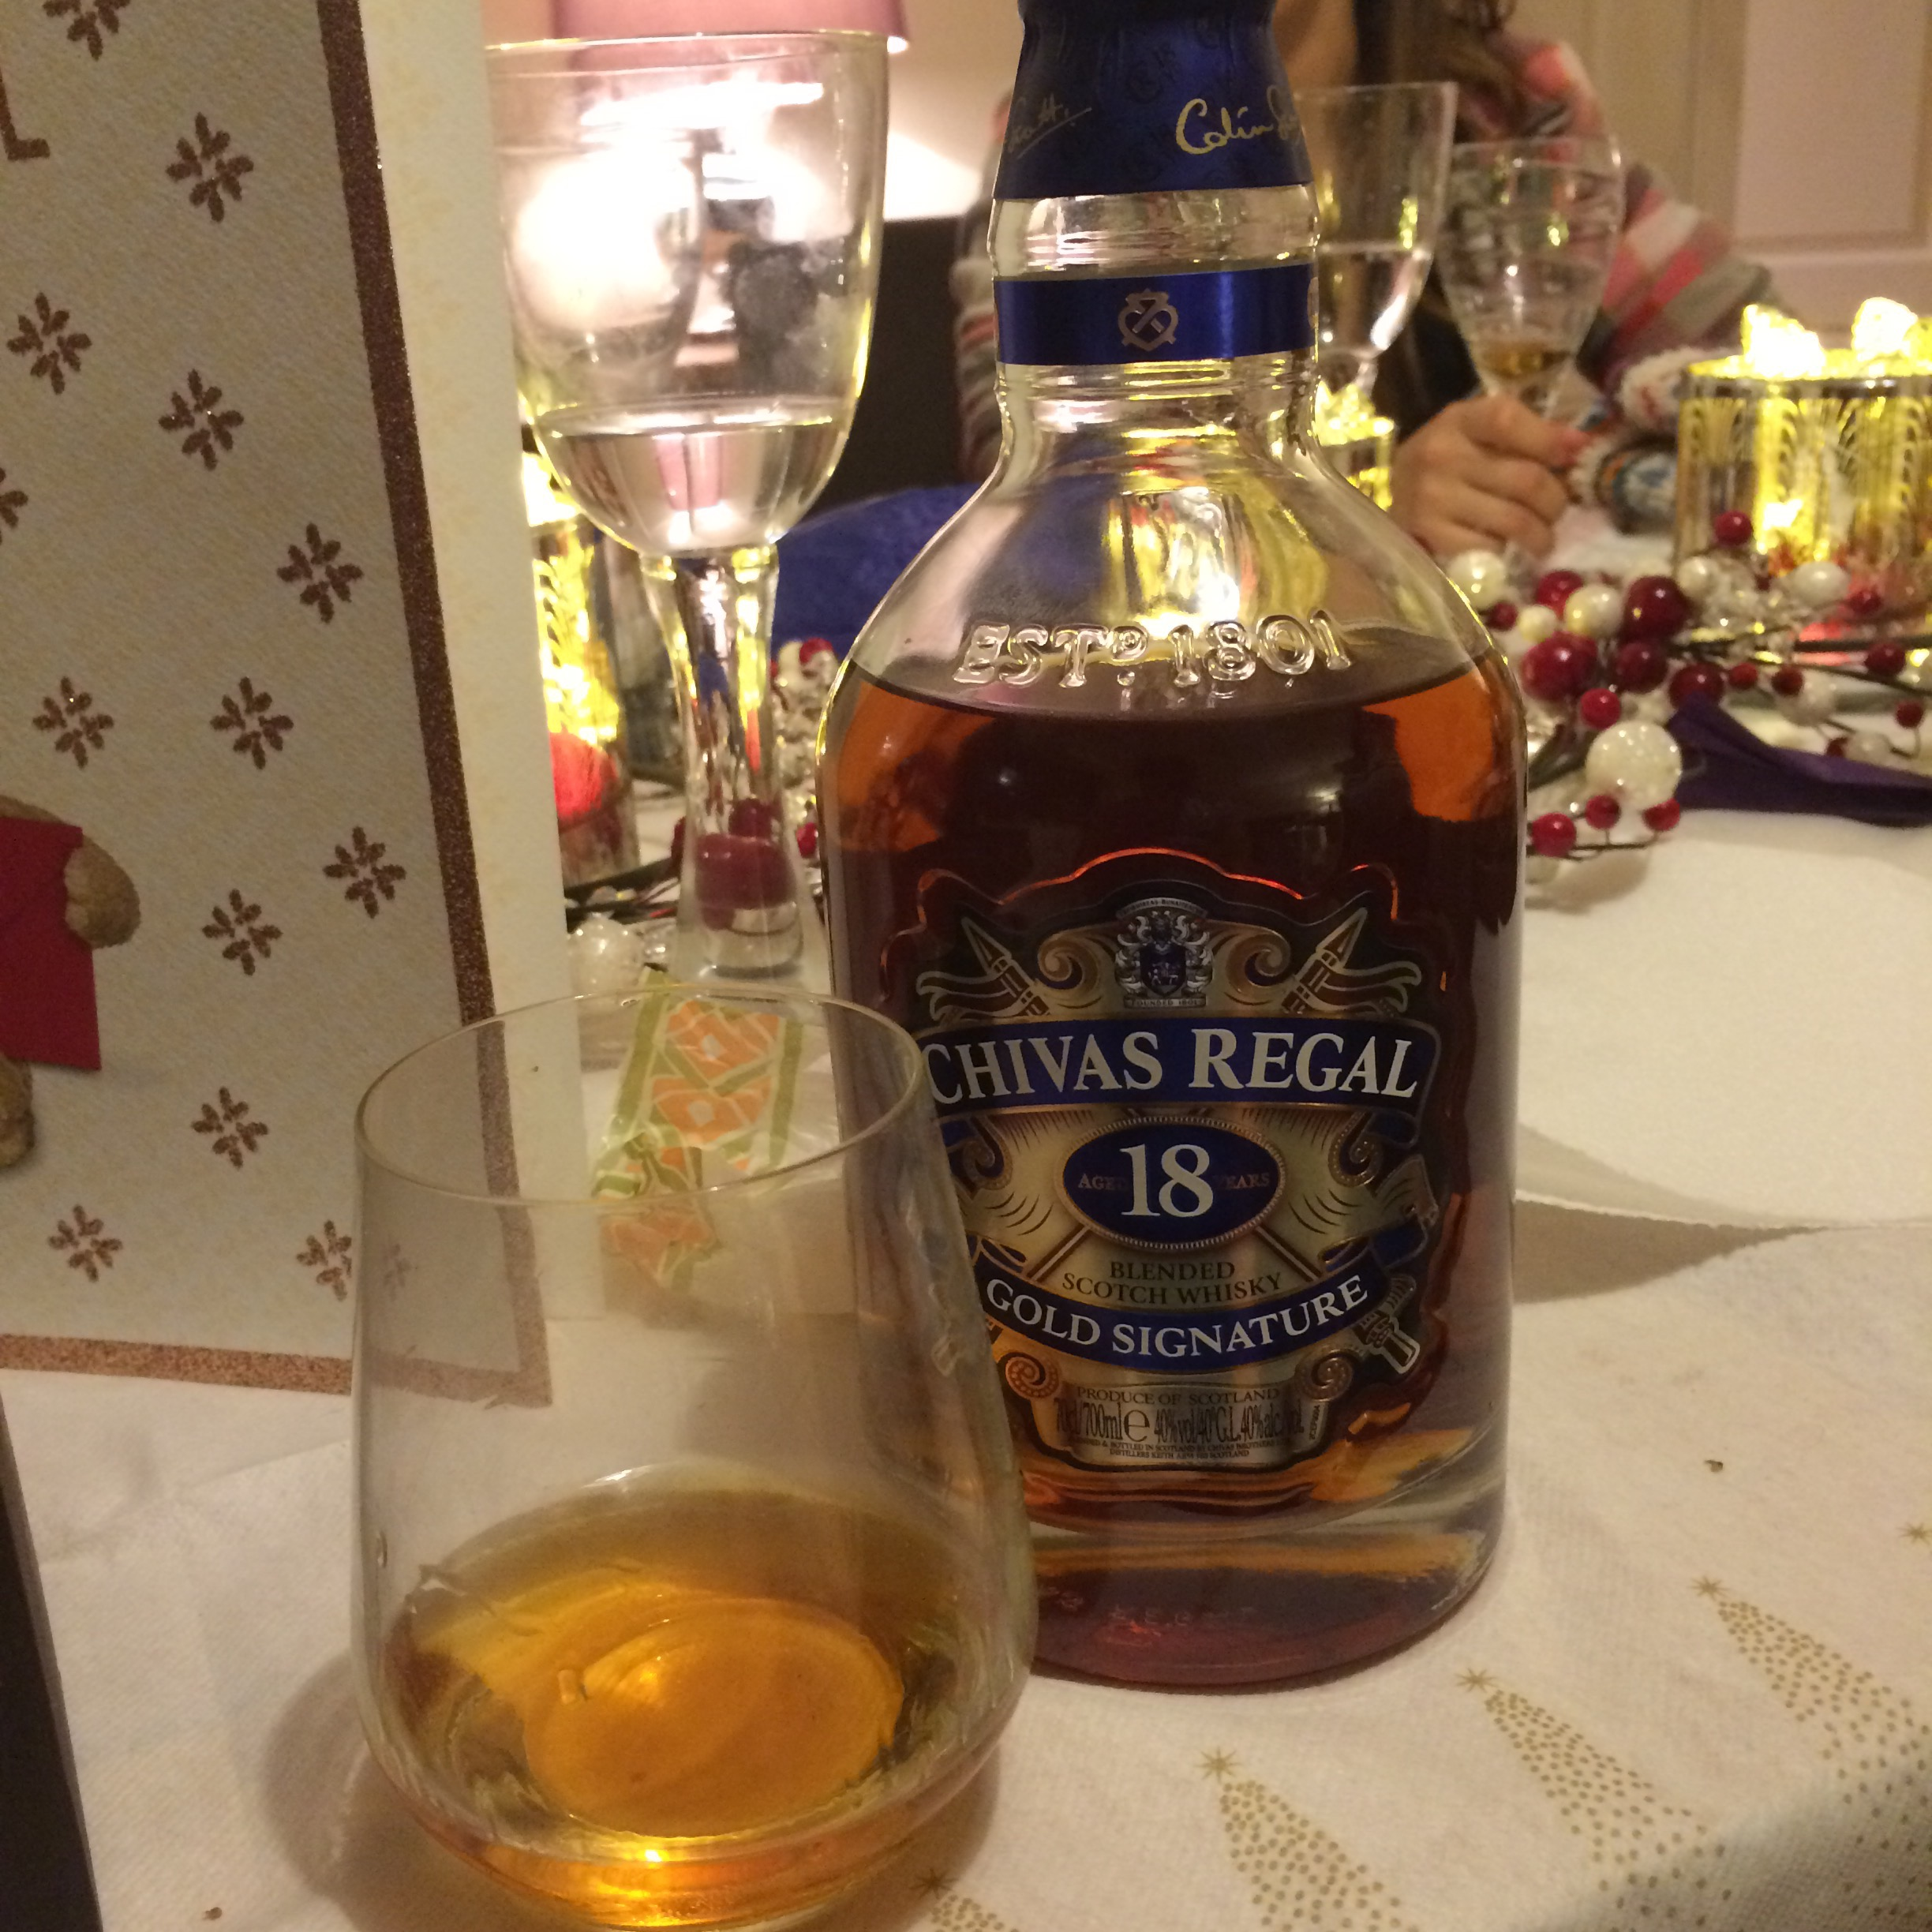Chivas Regal: (801, 2, 1546, 1714)
